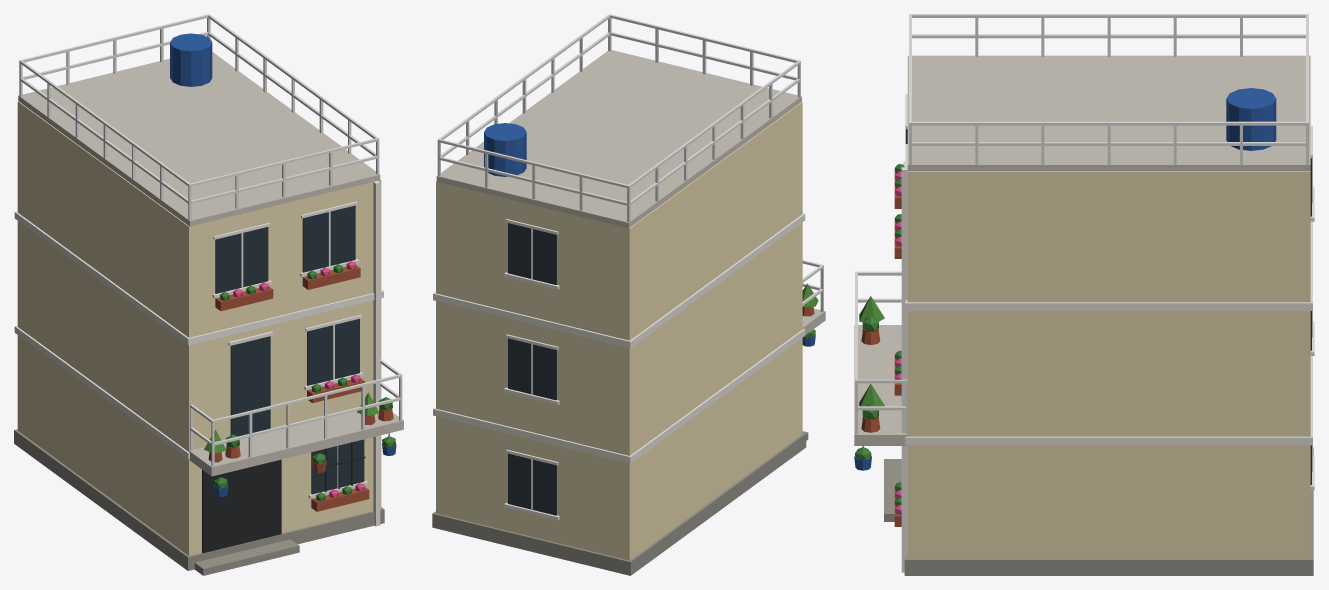
The model's file is BAY_F_ThreeStorey_L.glb.
The picture shows the model from 3 angles, left to right: view 1: azimuth 30°, elevation 25°; view 2: azimuth 150°, elevation 25°; view 3: azimuth 270°, elevation 25°; orthographic projection. The views are drawn at different scales.
Parts seen in each view (by area): view 1: BAY_F_ThreeStorey_L; view 2: BAY_F_ThreeStorey_L; view 3: BAY_F_ThreeStorey_L.
Boxes of the visible parts, x1=… form: BAY_F_ThreeStorey_L: x1=14, y1=14, x2=403, y2=575; BAY_F_ThreeStorey_L: x1=432, y1=14, x2=825, y2=575; BAY_F_ThreeStorey_L: x1=854, y1=14, x2=1314, y2=575.
Bounding box in the file's own units: 4.5 × 8.4 × 7.77.
Materials: 1 (1 with a texture image).
